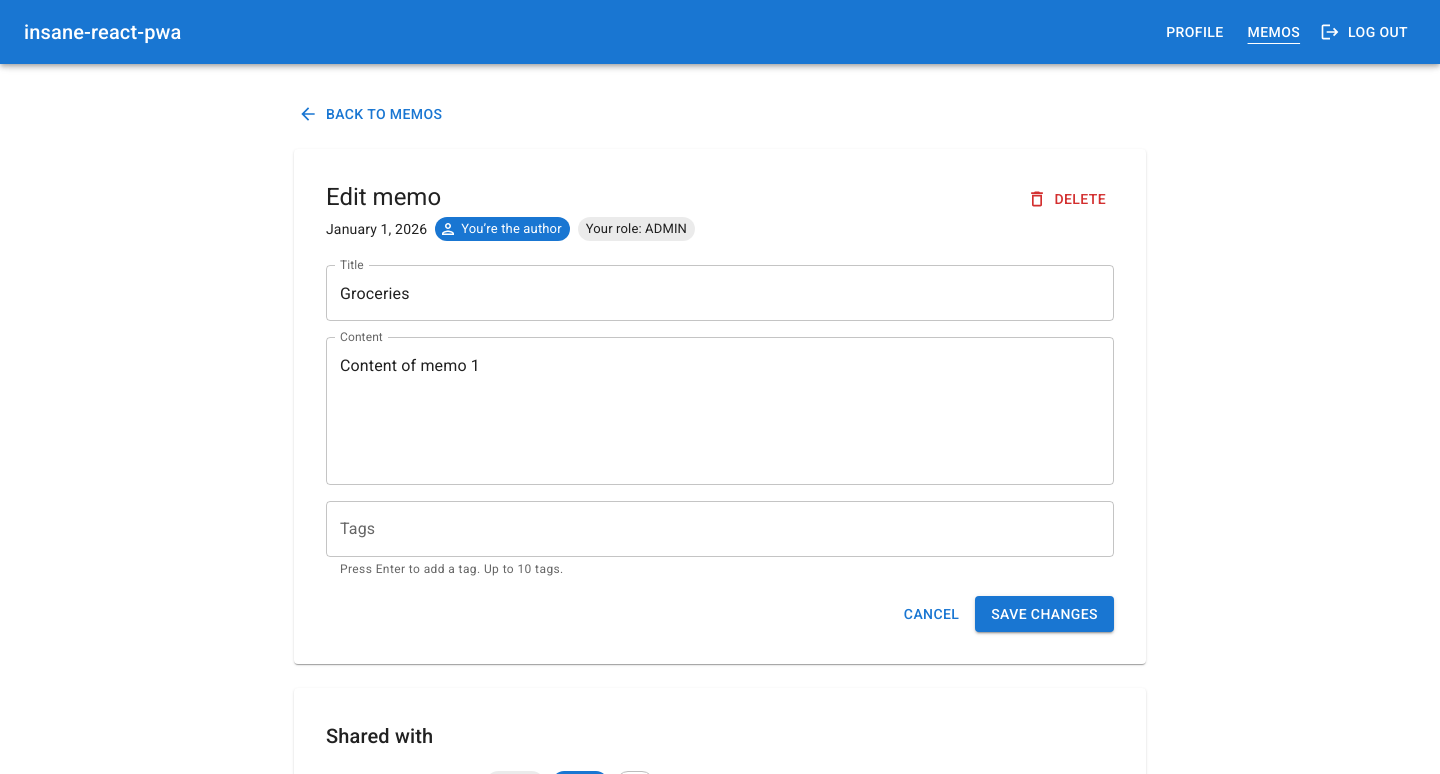
it: MemoEditorPage › shows why the API refused to save, e.g. a 403
Check: the heading "Edit memo" is shown, box x1=326 y1=180 x2=441 y2=217
Click the button "Save changes": (1045, 614) x1=975 y1=596 x2=1114 y2=632
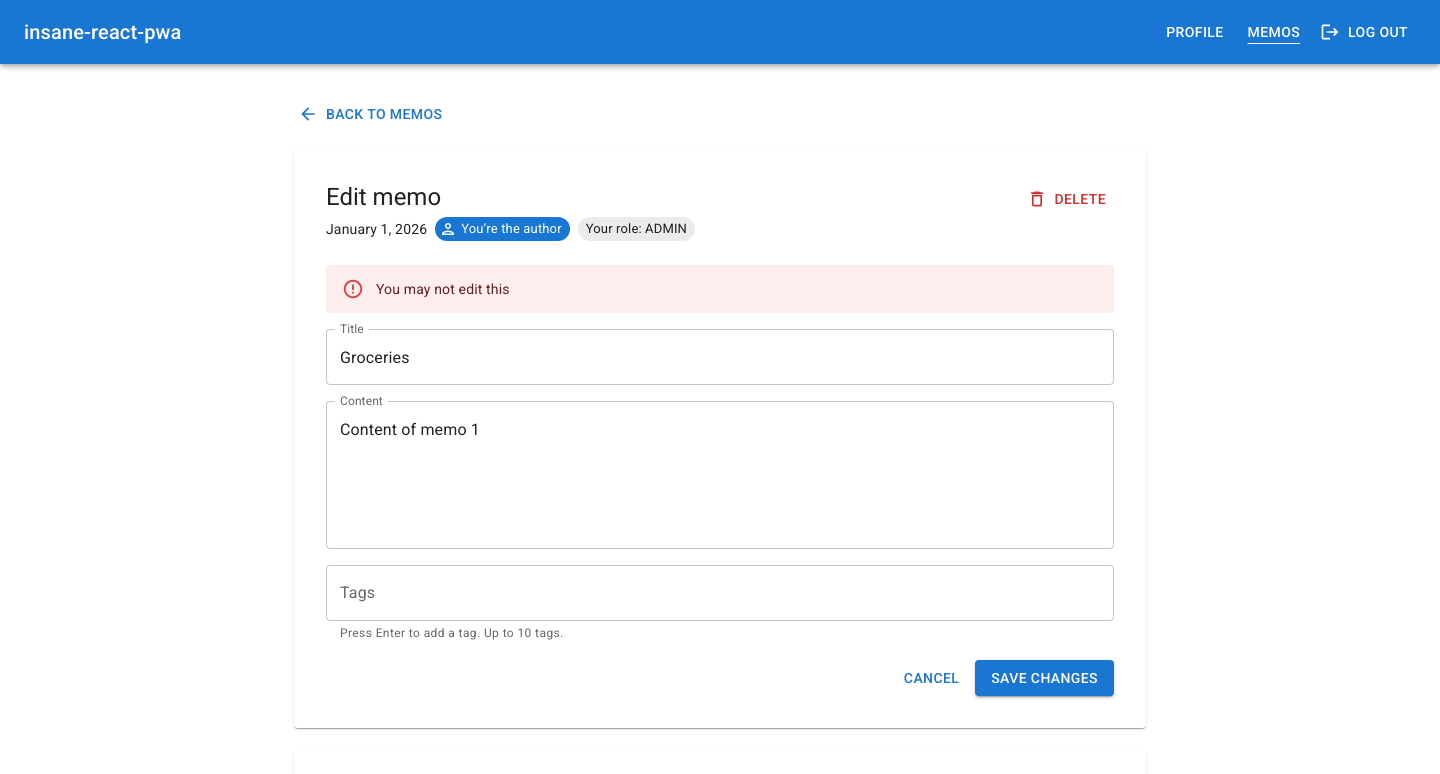
Check: the message reads "You may not edit this", box x1=376 y1=281 x2=510 y2=297
